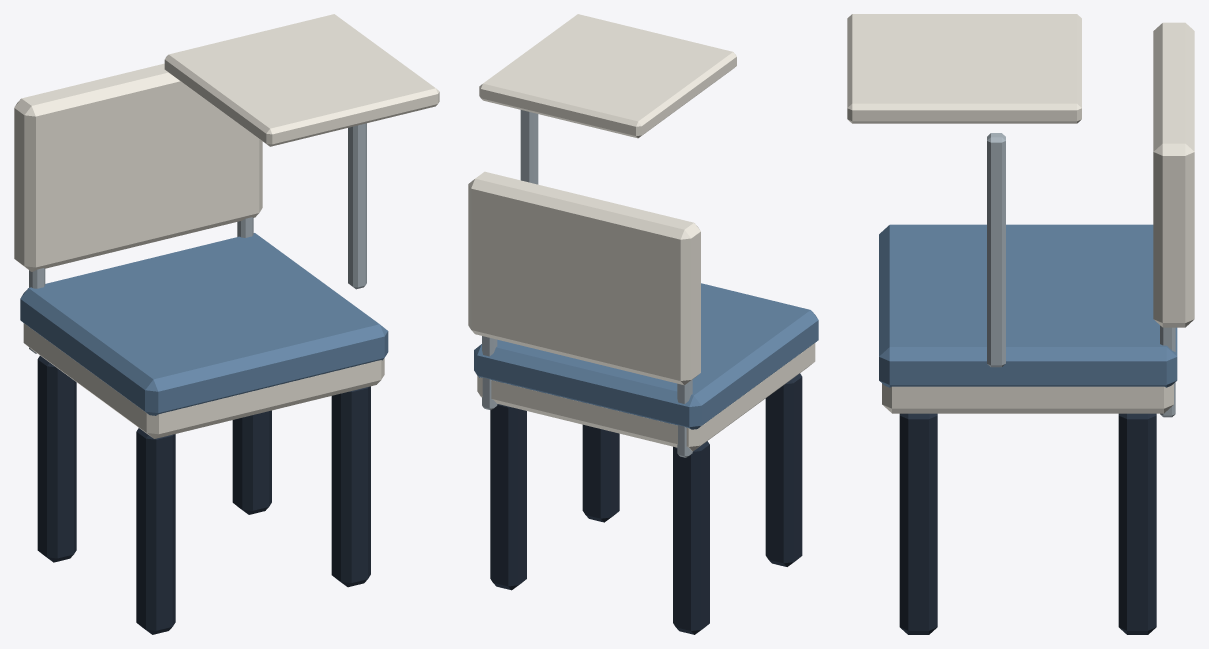
Rendered from lounge_10.glb.
3 renders of one model, left to right at view 1: azimuth 30°, elevation 25°; view 2: azimuth 150°, elevation 25°; view 3: azimuth 270°, elevation 25°, orthographic. The views are drawn at different scales.
Parts seen in each view (by area): view 1: Seat, Backrest, Leg (×4), WritingTablet, TableTop, WritingArm; view 2: Backrest, Leg (×4), Seat, WritingTablet, TableTop, WritingArm, BackSupport (×2); view 3: Seat, WritingTablet, Leg (×2), Backrest, TableTop, WritingArm, BackSupport.
Part boxes in pixels (x1,y1,x2,y2): Seat: (20,233,388,415); Backrest: (14,63,262,271); Leg (×4): (37,356,370,634); WritingTablet: (164,14,439,146); TableTop: (23,323,384,438); WritingArm: (348,123,366,289); Backrest: (468,171,700,385); Leg (×4): (490,373,802,634); Seat: (474,283,818,429); WritingTablet: (479,14,736,138); TableTop: (477,343,815,451); WritingArm: (520,110,538,184); BackSupport (×2): (482,336,692,457); Seat: (879,224,1177,387); WritingTablet: (847,14,1081,123); Leg (×2): (899,413,1156,634); Backrest: (1153,22,1194,327); TableTop: (882,383,1173,413); WritingArm: (987,133,1005,367); BackSupport: (1160,325,1175,417).
Size of the model in its own units: 0.56 by 0.9675 by 0.5475.
